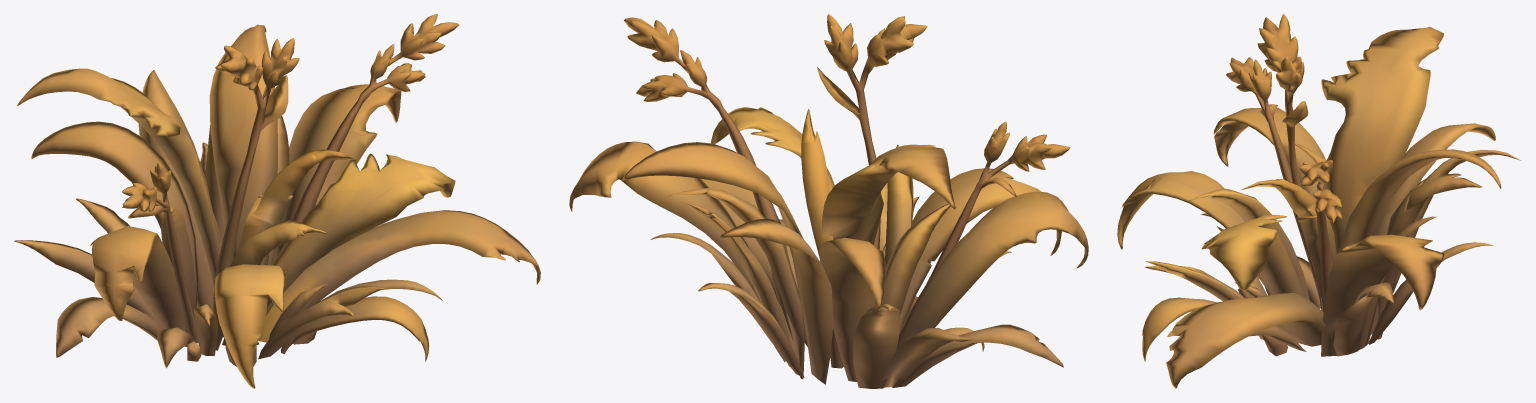
The model's file is dry-bunchgrass.glb.
3 views of the same model, side by side, from view 1: azimuth 30°, elevation 25°; view 2: azimuth 150°, elevation 25°; view 3: azimuth 270°, elevation 25° (orthographic). The views are drawn at different scales.
Visible parts, largest first — view 1: tripo_node_33230113-201c-4c6d-9e34-3353df6fc01a; view 2: tripo_node_33230113-201c-4c6d-9e34-3353df6fc01a; view 3: tripo_node_33230113-201c-4c6d-9e34-3353df6fc01a.
Part boxes in pixels (x1,y1,x2,y2): tripo_node_33230113-201c-4c6d-9e34-3353df6fc01a: [14, 14, 540, 388]; tripo_node_33230113-201c-4c6d-9e34-3353df6fc01a: [569, 14, 1088, 388]; tripo_node_33230113-201c-4c6d-9e34-3353df6fc01a: [1117, 14, 1520, 388].
Bounding box in the file's own units: 0.9995 × 0.7095 × 0.8579.
Materials: 1 (1 with a texture image).
